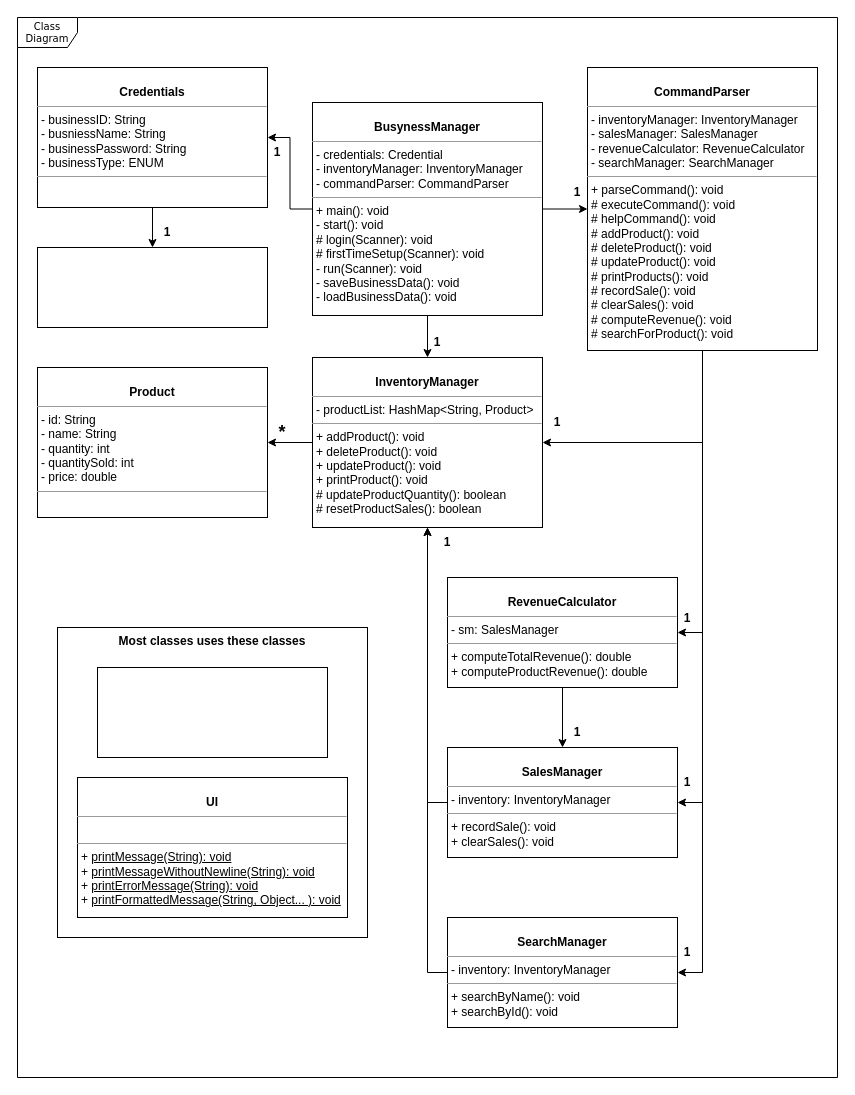
Some shapes in this 855 by 1095 pixel diagram are drawn without their labels. Here are the shapes that lost their labels. From the top down, the centre of each, then its label:
the point at 152,287: <<enumeration>> BusinessType "FNB" "RETAIL"
the point at 212,712: Constants + magicLiterals: String
